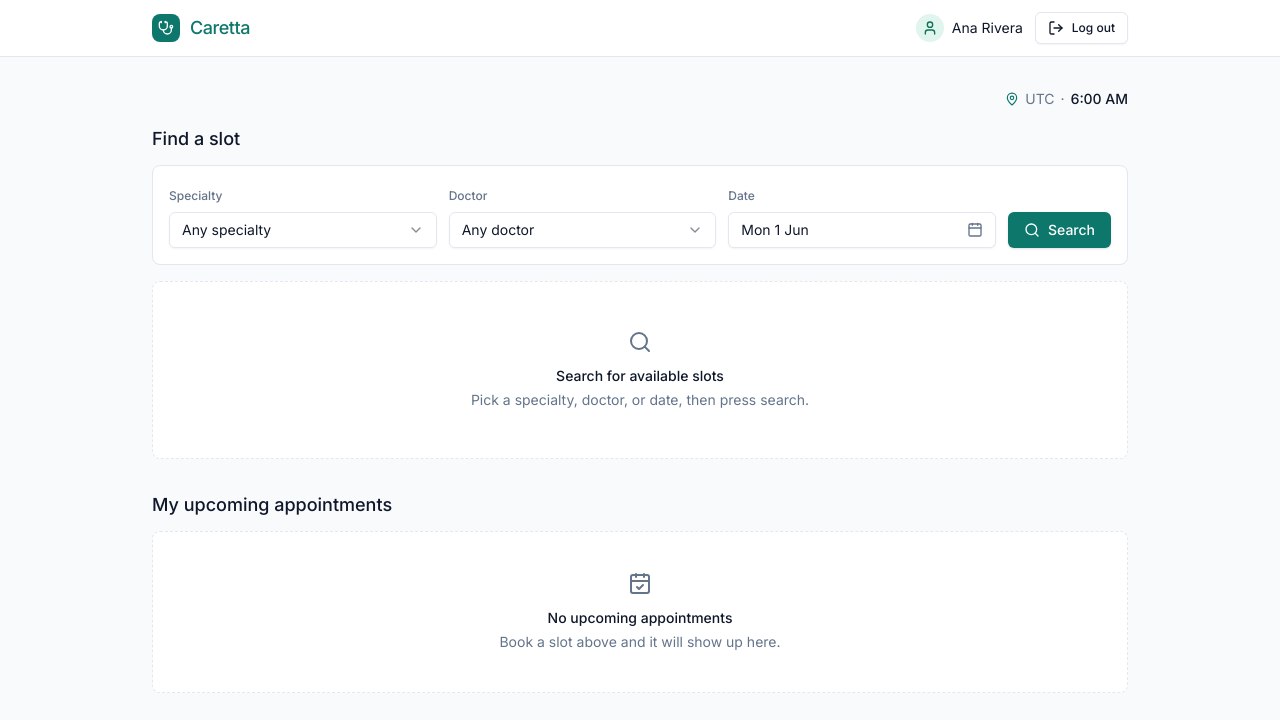
Test: Slot generation flow › shows no slots on a day the doctor does not work
Click the button named "Date". click: click(775, 230)
box: [728,212,996,248]
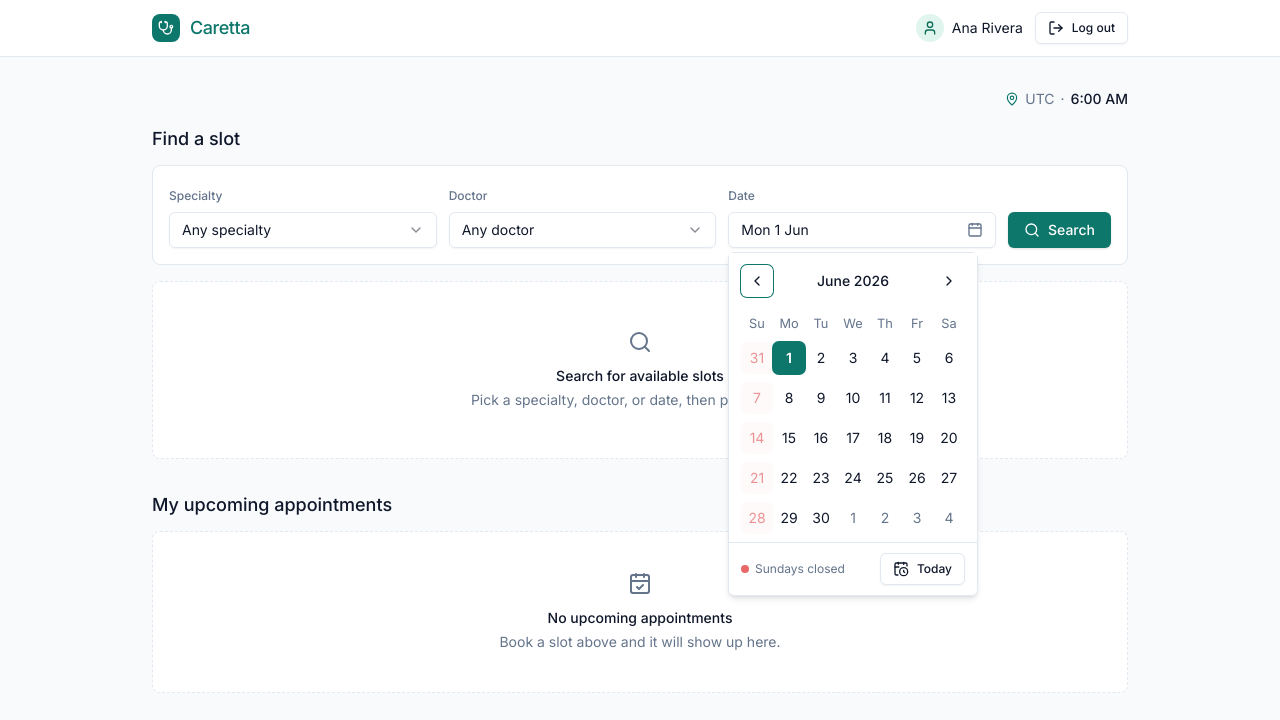
Click the button named "Tuesday, June 2nd, 2026". click: click(821, 358)
box: [805,342,837,374]
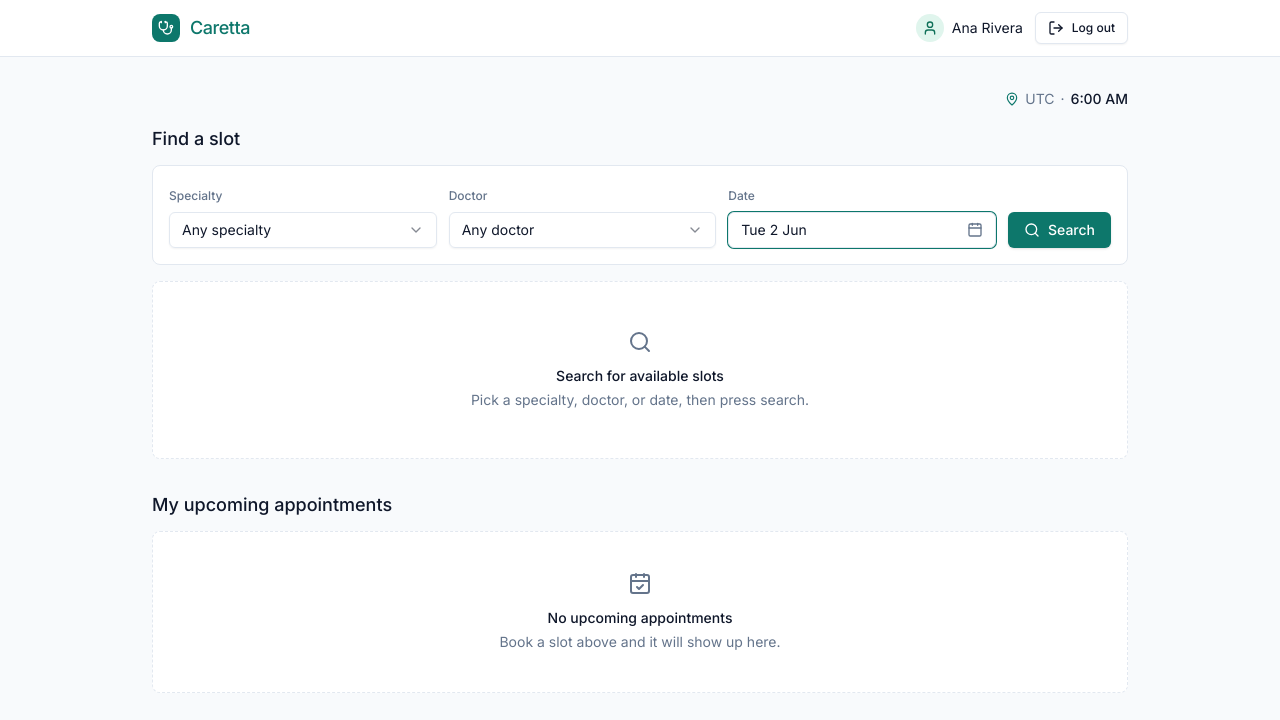
Click the button "Search". click: click(1060, 230)
box: [1008,212,1111,248]
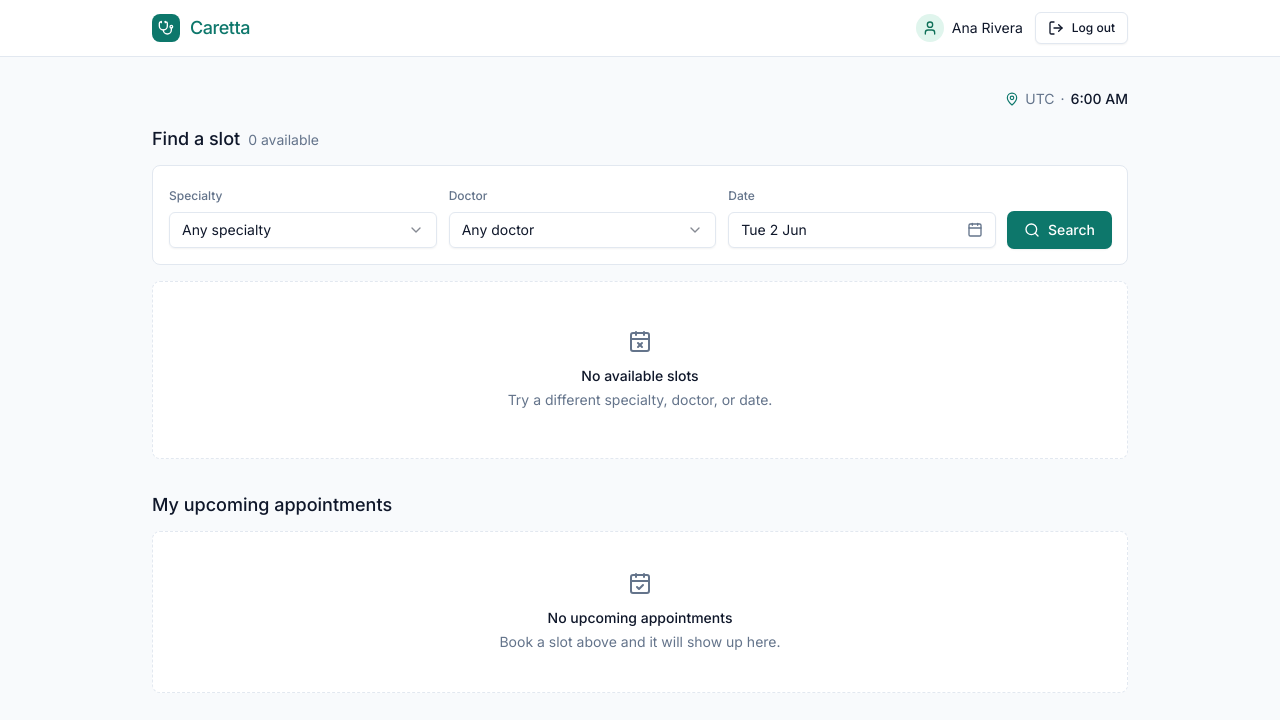
expect the text "No available slots" is shown: met, box [581,366,699,386]
